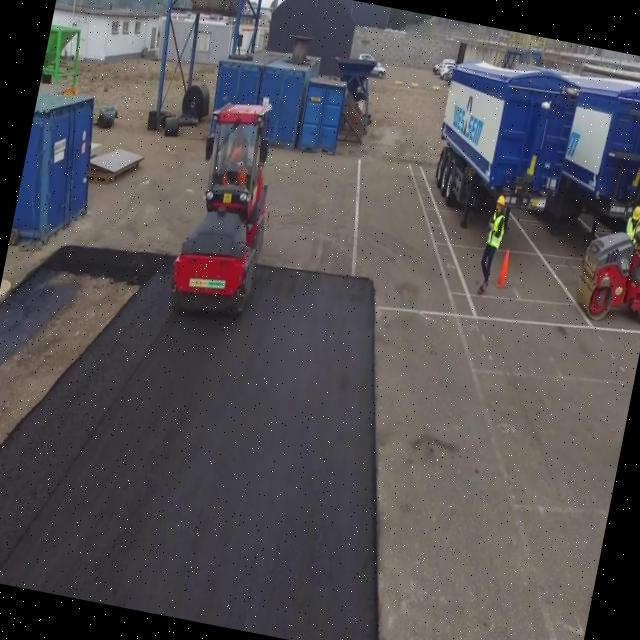Roller: (166, 88, 286, 318), (576, 164, 640, 327)
